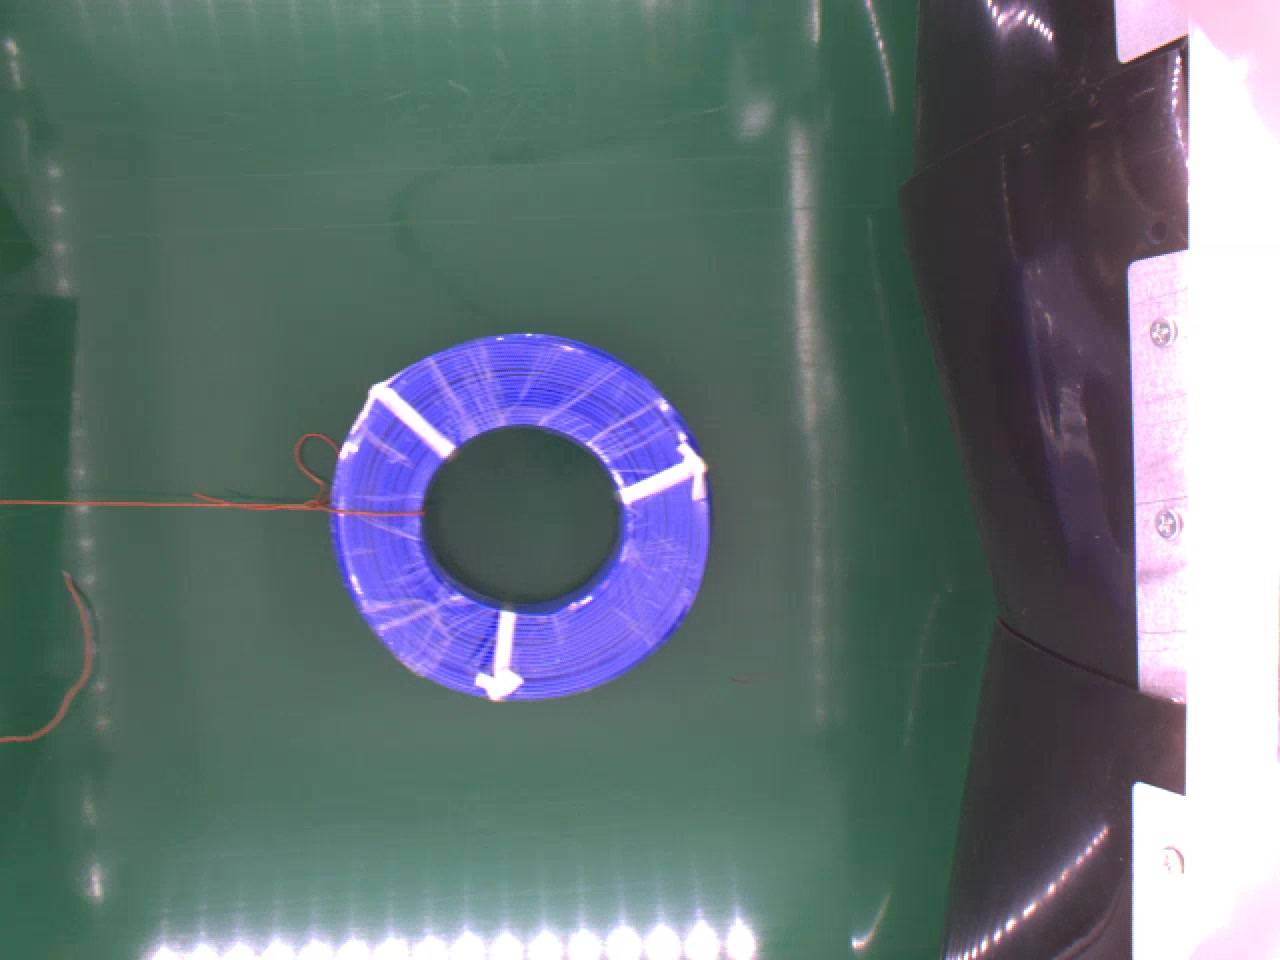blue: (328, 330, 714, 705)
